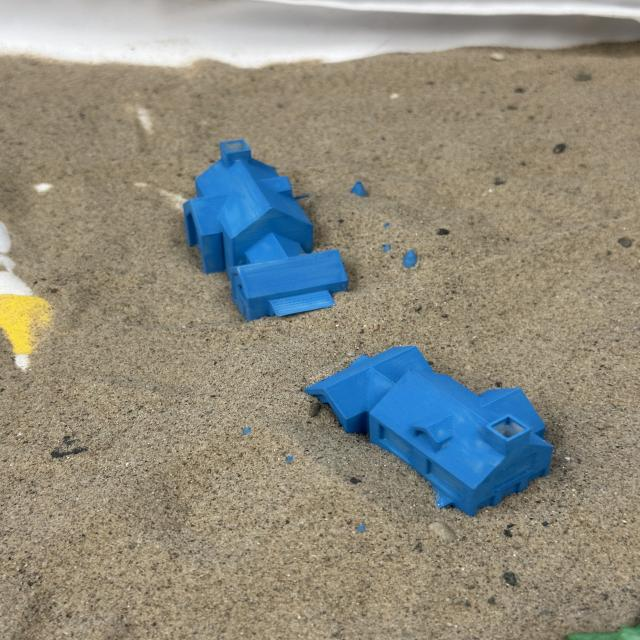fire: (303, 343, 555, 517)
house: (180, 138, 437, 321)
